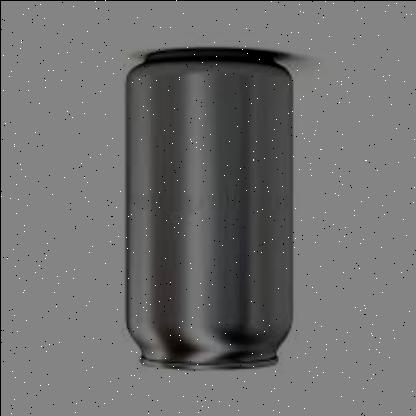Can: (124, 52, 292, 368)
